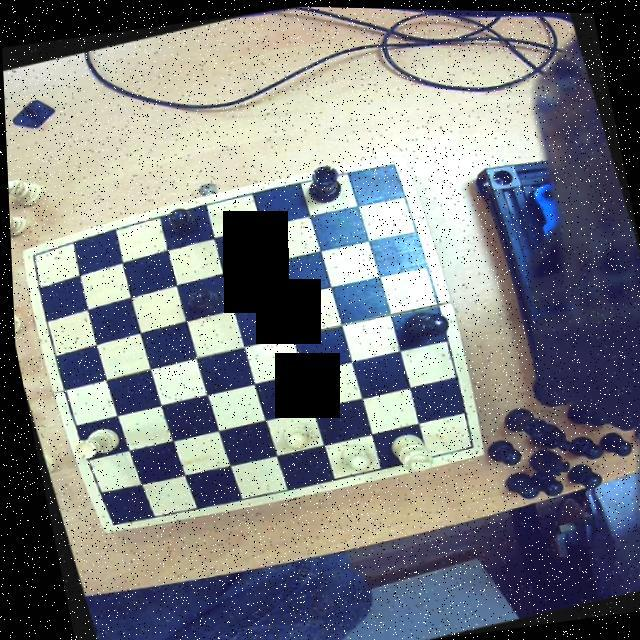chess-table-corners: (376, 152, 406, 180), (95, 511, 127, 533), (454, 429, 482, 454), (20, 248, 46, 270)
